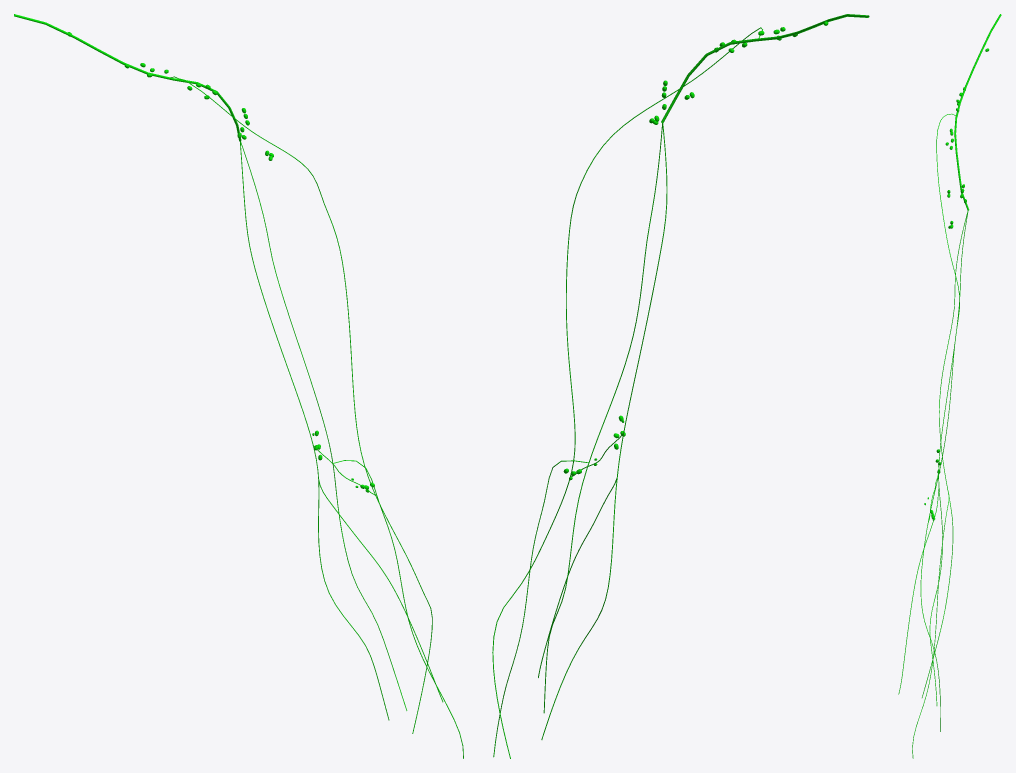
Rendered from Upper limb Lymphatic L.fbx.
3 views of the same model, side by side, from view 1: azimuth 30°, elevation 25°; view 2: azimuth 150°, elevation 25°; view 3: azimuth 270°, elevation 25° (orthographic). The views are drawn at different scales.
Visible parts, largest first — view 1: Ulnar_group_of_lymph_vessels_L, Radial_group_of_lymph_vessels_L, Subclavian_trunk_L; view 2: Ulnar_group_of_lymph_vessels_L, Radial_group_of_lymph_vessels_L, Subclavian_trunk_L; view 3: Ulnar_group_of_lymph_vessels_L, Radial_group_of_lymph_vessels_L, Subclavian_trunk_L.
Part boxes in pixels (x1,y1,x2,y2): Ulnar_group_of_lymph_vessels_L: [240, 141, 443, 720]; Radial_group_of_lymph_vessels_L: [170, 76, 463, 758]; Subclavian_trunk_L: [14, 14, 241, 141]; Ulnar_group_of_lymph_vessels_L: [538, 123, 667, 739]; Radial_group_of_lymph_vessels_L: [492, 27, 762, 758]; Subclavian_trunk_L: [661, 14, 869, 123]; Ulnar_group_of_lymph_vessels_L: [898, 211, 968, 705]; Radial_group_of_lymph_vessels_L: [912, 113, 959, 758]; Subclavian_trunk_L: [954, 14, 1001, 210].
Bounding box in the file's own units: 29.64 × 57.63 × 8.96.
